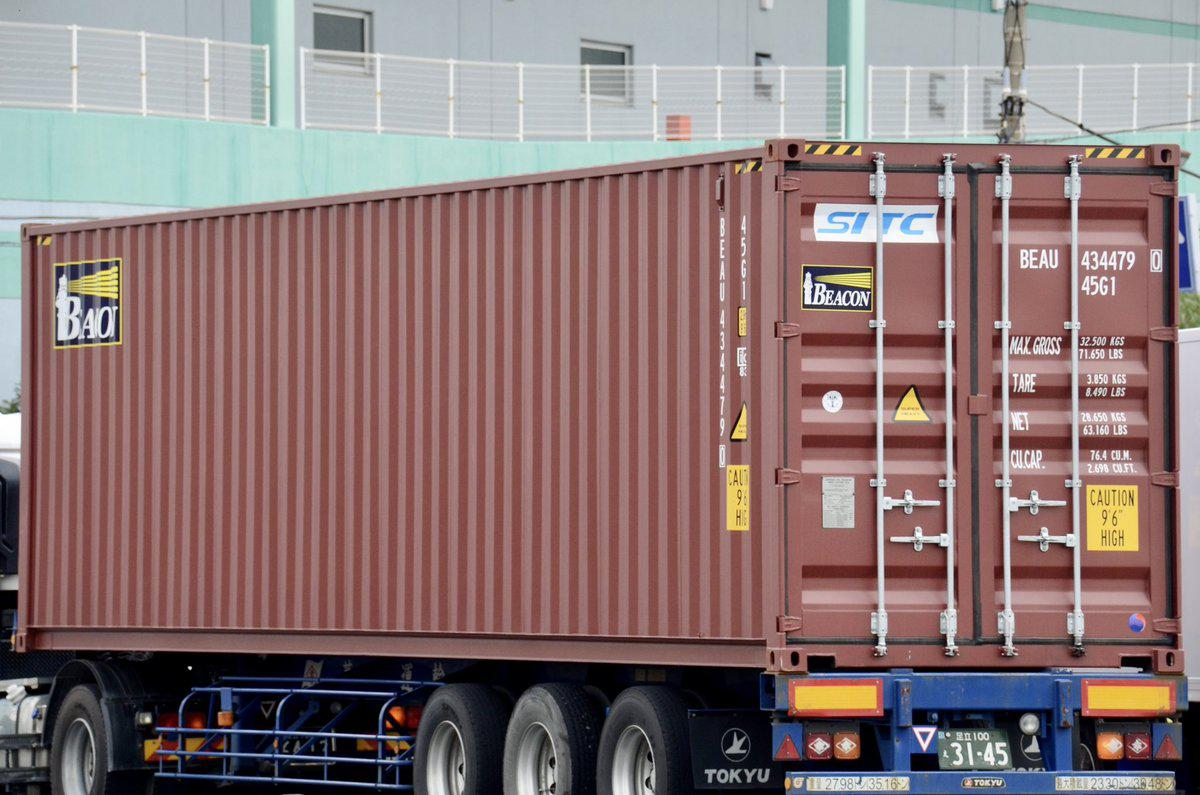ContainerNum: (1016, 246, 1167, 298)
